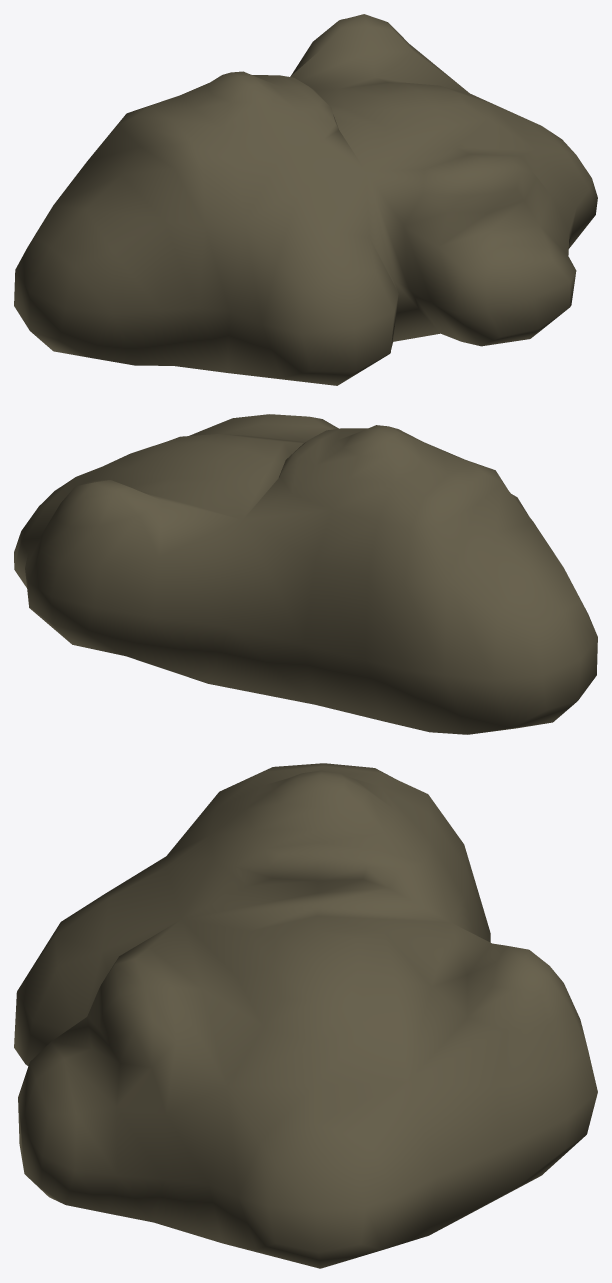
Rendered from Dirt_1.fbx.
3 renders of one model, top to bottom at view 1: azimuth 30°, elevation 25°; view 2: azimuth 150°, elevation 25°; view 3: azimuth 270°, elevation 25°, orthographic. The views are drawn at different scales.
Parts seen in each view (by area): view 1: Dirt_1; view 2: Dirt_1; view 3: Dirt_1.
Part boxes in pixels (x1,y1,x2,y2): Dirt_1: [14, 14, 597, 385]; Dirt_1: [14, 414, 597, 734]; Dirt_1: [14, 763, 597, 1268].
Size of the model in its own units: 36.51 by 16.54 by 25.74.
